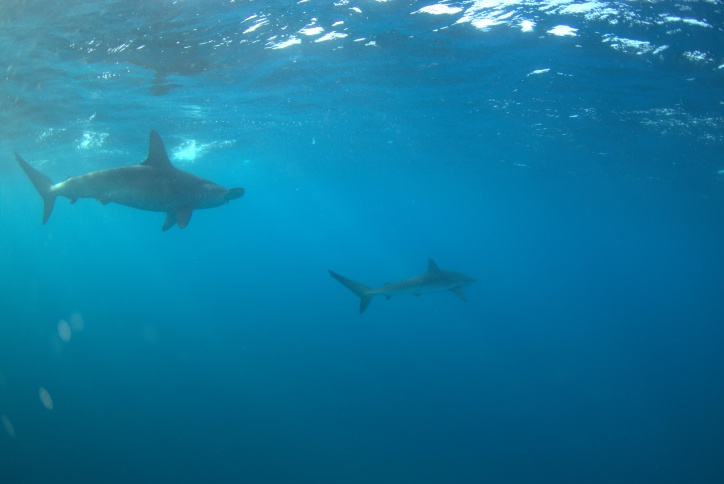Sedoso: (318, 243, 487, 314)
